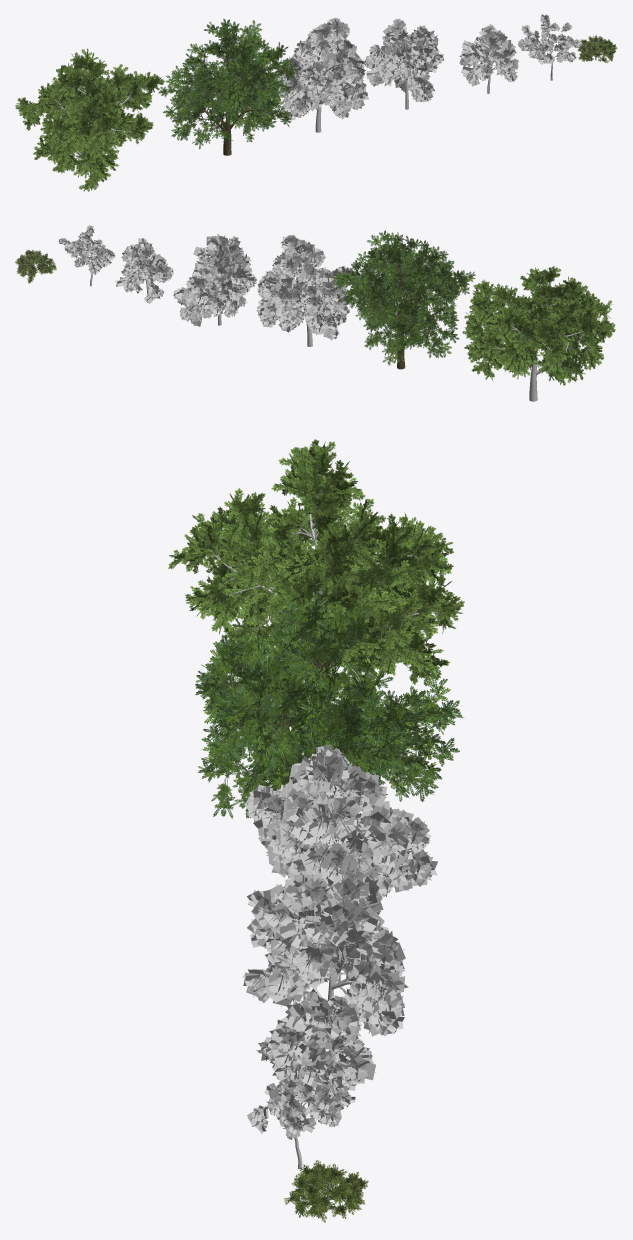
The picture shows the model from 3 angles, top to bottom: view 1: azimuth 30°, elevation 25°; view 2: azimuth 150°, elevation 25°; view 3: azimuth 270°, elevation 25°; orthographic projection. The views are drawn at different scales.
Visible parts, largest first — view 1: Tree EZTree1.Large009, Tree EZTree0.Large, Tree EZTree1.Large001, Tree EZTree0.Medium010, Tree EZTree0.Medium011, Tree EZTree1.Medium002, Tree EZTree1.Bush006; view 2: Tree EZTree1.Large009, Tree EZTree0.Large, Tree EZTree1.Large001, Tree EZTree0.Medium010, Tree EZTree0.Medium011, Tree EZTree1.Medium002, Tree EZTree1.Bush006; view 3: Tree EZTree1.Large009, Tree EZTree0.Large, Tree EZTree0.Medium010, Tree EZTree1.Large001, Tree EZTree0.Medium011, Tree EZTree1.Medium002, Tree EZTree1.Bush006.
Boxes of the visible parts, box(x1,y1,x2,y2) form: Tree EZTree1.Large009: box(15, 48, 164, 191); Tree EZTree0.Large: box(158, 18, 297, 155); Tree EZTree1.Large001: box(276, 17, 368, 132); Tree EZTree0.Medium010: box(363, 18, 443, 109); Tree EZTree0.Medium011: box(459, 24, 518, 93); Tree EZTree1.Medium002: box(518, 14, 581, 80); Tree EZTree1.Bush006: box(577, 35, 617, 62); Tree EZTree1.Large009: box(462, 266, 615, 401); Tree EZTree0.Large: box(330, 230, 475, 369); Tree EZTree1.Large001: box(256, 234, 351, 346); Tree EZTree0.Medium010: box(173, 233, 256, 326); Tree EZTree0.Medium011: box(115, 238, 173, 303); Tree EZTree1.Medium002: box(58, 225, 115, 286); Tree EZTree1.Bush006: box(15, 250, 56, 283); Tree EZTree1.Large009: box(168, 439, 464, 708); Tree EZTree0.Large: box(195, 592, 463, 818); Tree EZTree0.Medium010: box(243, 858, 408, 1036); Tree EZTree1.Large001: box(246, 744, 437, 912); Tree EZTree0.Medium011: box(256, 988, 376, 1106); Tree EZTree1.Medium002: box(247, 1038, 355, 1169); Tree EZTree1.Bush006: box(284, 1160, 368, 1222).
Size of the model in its own units: 473 by 107 by 109.
